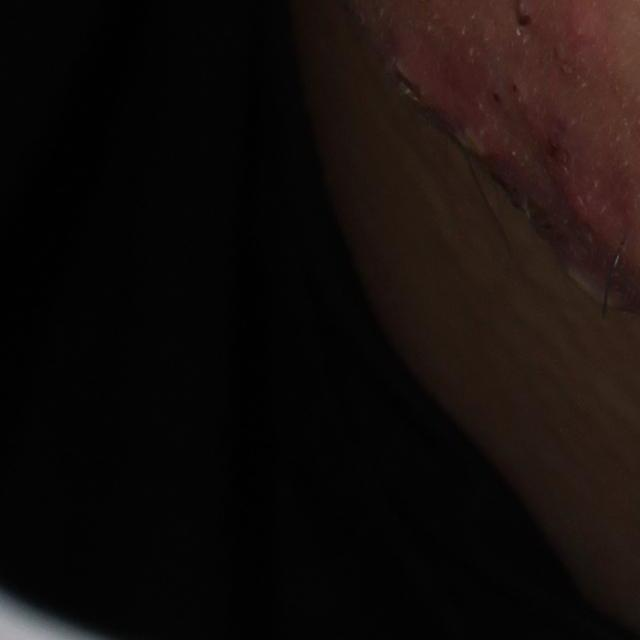comedo: (514, 2, 542, 29)
nodule: (386, 23, 515, 178)
